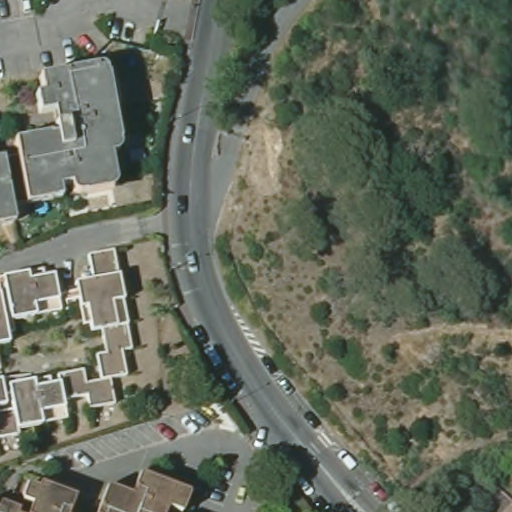pool: (33, 199, 52, 217)
